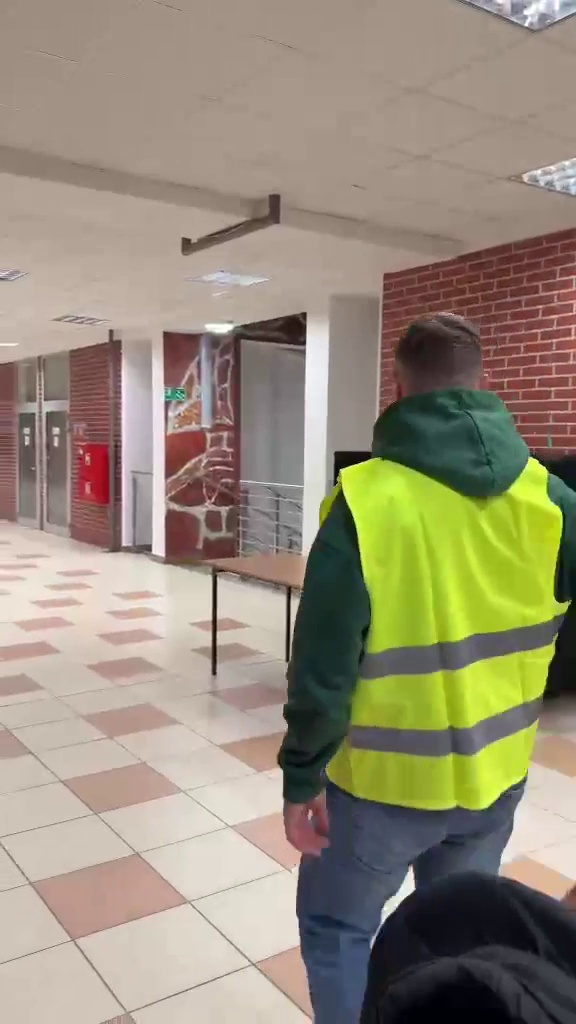vest: (275, 303, 565, 976)
